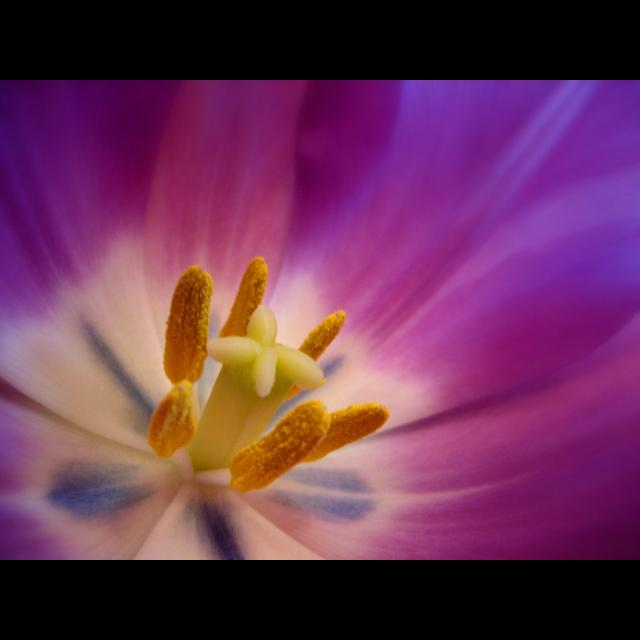Flower: (1, 84, 640, 556)
